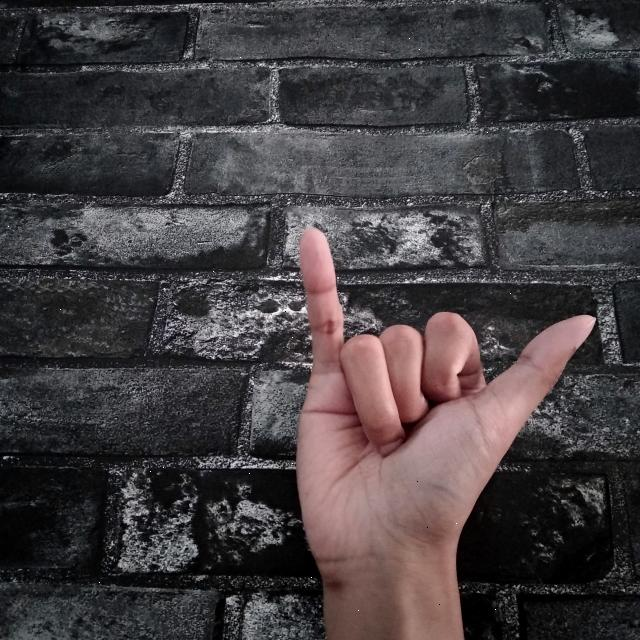Y: (280, 210, 598, 640)
